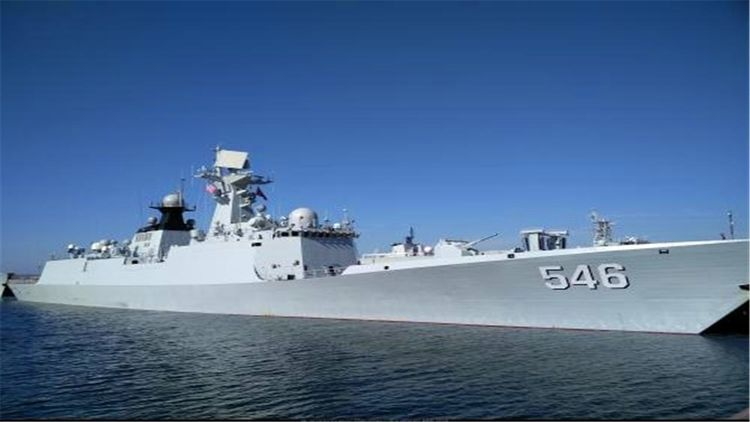warship: (1, 142, 745, 341)
